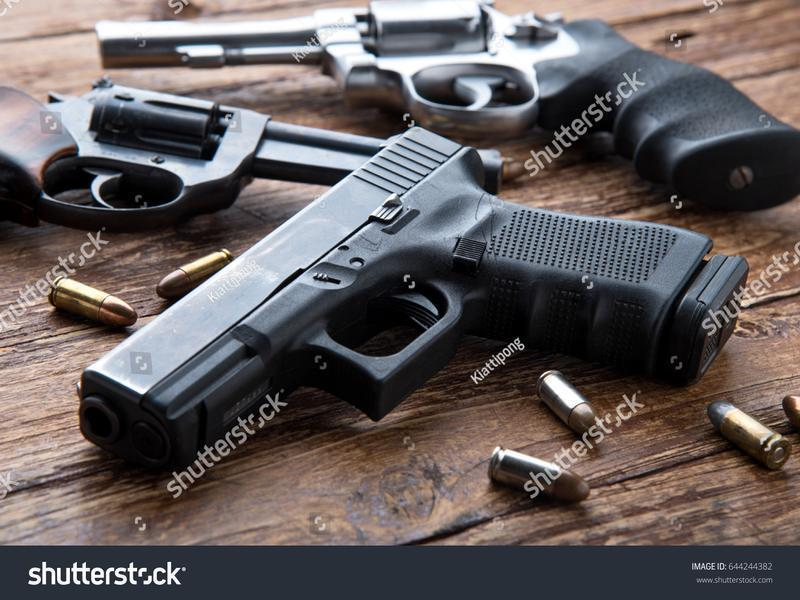GUN: (2, 3, 800, 479)
